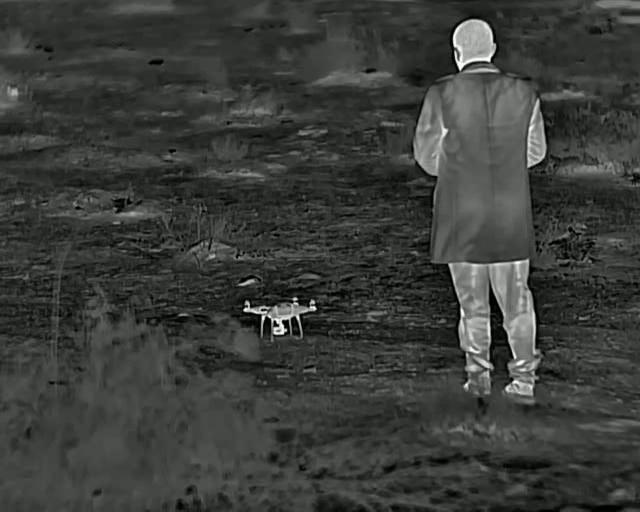DJI-Phantom: (242, 295, 320, 338)
